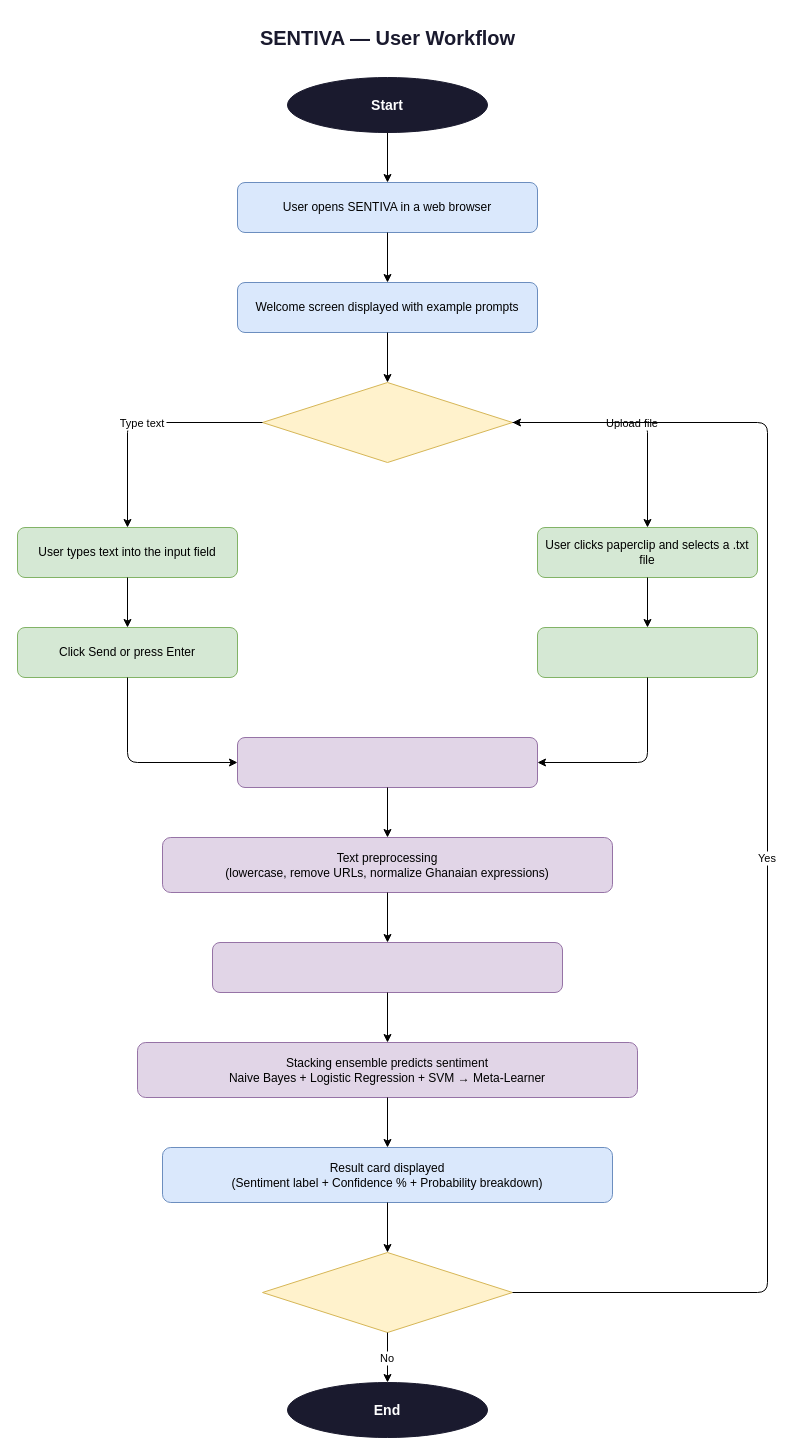
Some shapes in this 796 by 1455 pixel diagram are drawn without their labels. Each missing label, with the centre of its shape:
"Analyze more text?" belongs at point (387, 1292).
"API receives the text" belongs at point (387, 762).
"Input method?" belongs at point (387, 422).
"Lines extracted from file (up to 200 lines)" belongs at point (647, 652).
"TF-IDF vectorization (5,000 features)" belongs at point (387, 967).
